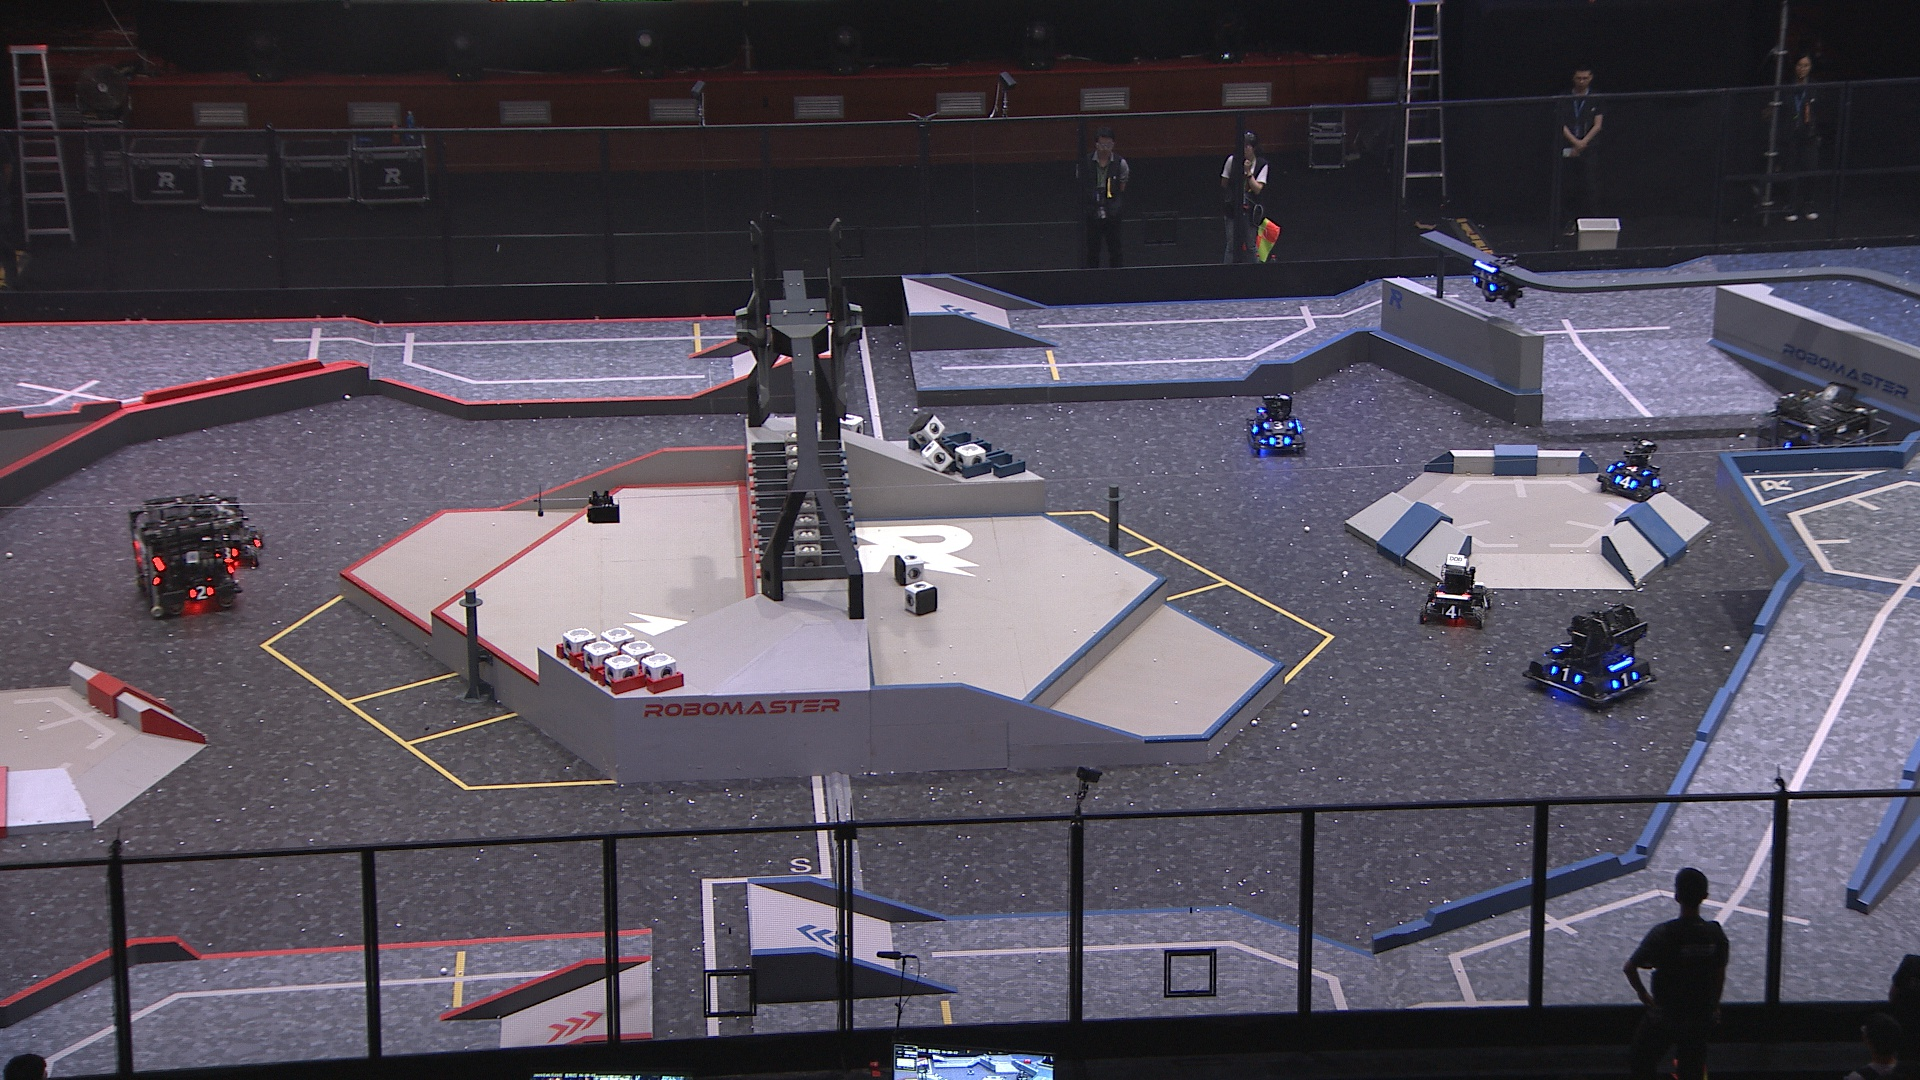armor: (1552, 665, 1580, 687), (1614, 460, 1648, 477), (1549, 636, 1575, 655), (1611, 670, 1636, 687), (1262, 418, 1294, 431), (1437, 603, 1462, 618), (1269, 433, 1292, 448), (189, 584, 215, 597), (1474, 276, 1498, 290), (216, 543, 237, 559), (1614, 475, 1636, 489), (1247, 417, 1261, 438), (1480, 591, 1491, 611), (1651, 475, 1662, 487)
car: (1750, 378, 1898, 516), (1527, 603, 1658, 712), (124, 495, 240, 609), (190, 491, 280, 585), (1419, 555, 1493, 629), (1594, 433, 1665, 504), (1244, 392, 1305, 458)
watcher: (1470, 249, 1528, 309)
